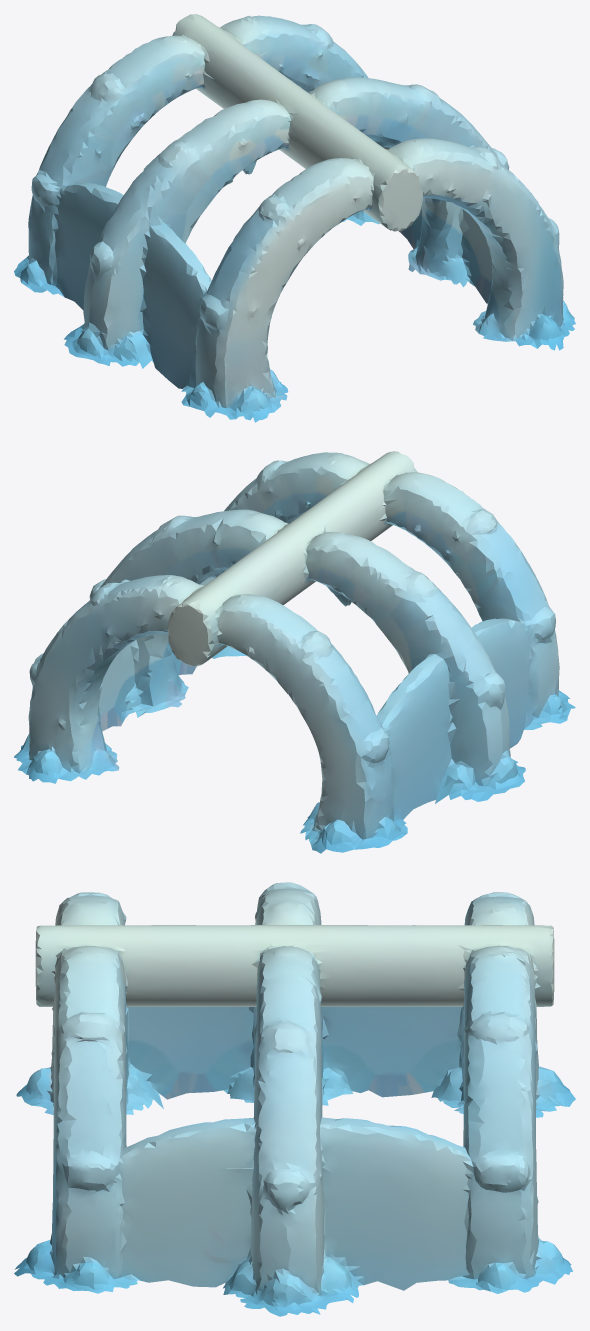
Rendered from Hollow_BoneArch.glb.
3 views of the same model, one above another, from view 1: azimuth 30°, elevation 25°; view 2: azimuth 150°, elevation 25°; view 3: azimuth 270°, elevation 25° (orthographic). The views are drawn at different scales.
Parts seen in each view (by area): view 1: Cave_BoneArch; view 2: Cave_BoneArch; view 3: Cave_BoneArch.
Part boxes in pixels (left/top/right/bottom): Cave_BoneArch: left=14, top=14, right=575, bottom=422; Cave_BoneArch: left=14, top=451, right=575, bottom=853; Cave_BoneArch: left=14, top=882, right=575, bottom=1316.
Size of the model in its own units: 6.64 by 3 by 5.8.
Materials: 1 (1 with a texture image).
